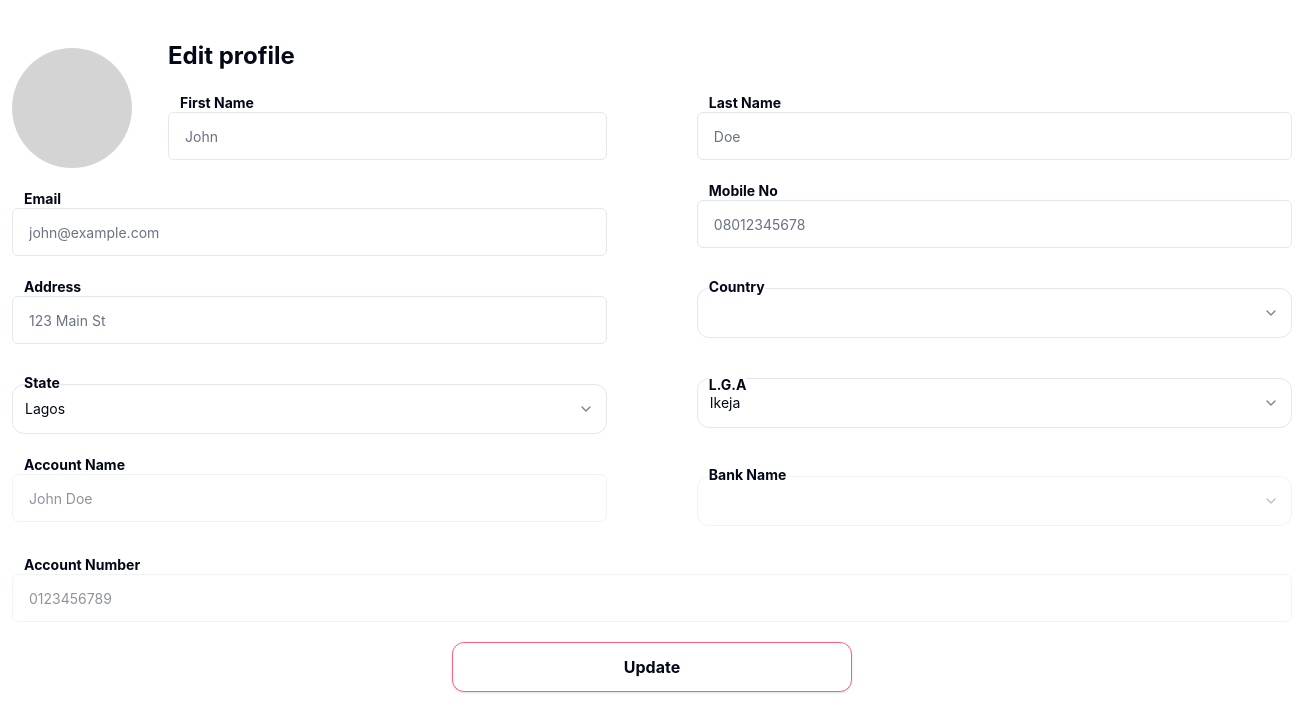
it: CreatorEditProfileForm › Form submission › shows a loading spinner while the mutation is pending
The image size is (1304, 720).
Expected: the field with test id "firstName" holds "John", [168,112,607,160]
Click the button with test id "update-btn". click: {"x": 652, "y": 667}
box: [452,642,852,692]
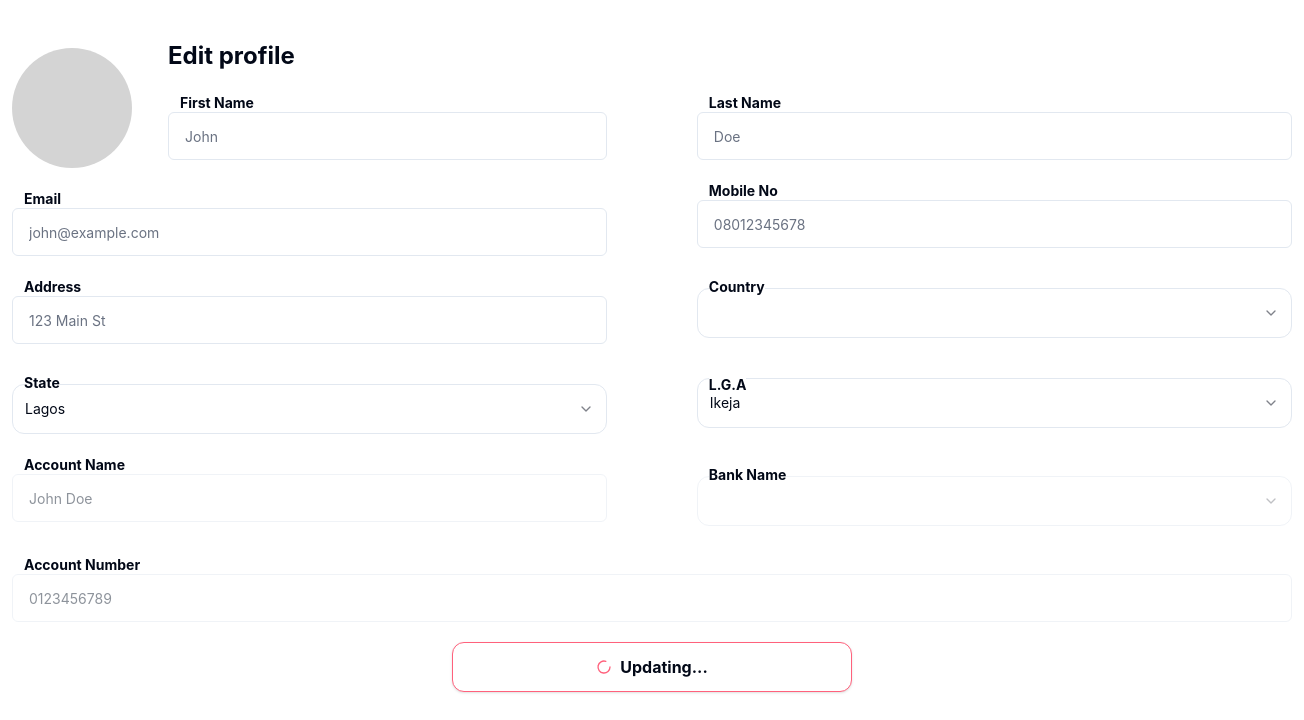
Now the text "Updating..." is shown, box [596,655,708,679]
